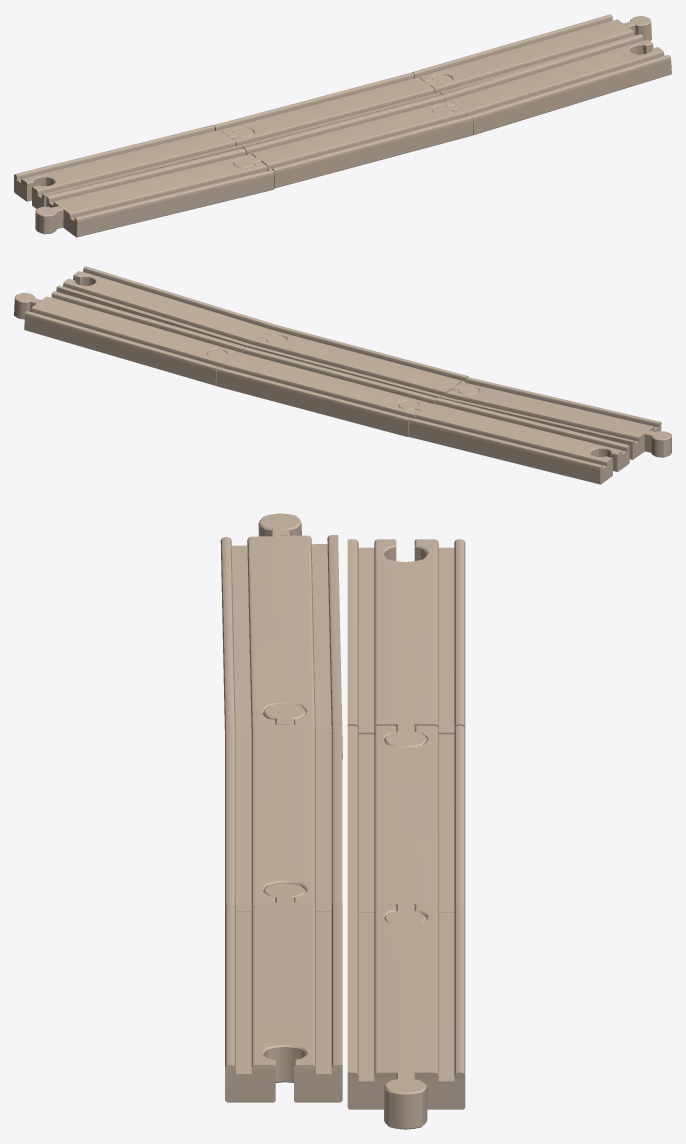
Rendered from train_tracks.fbx.
3 views of the same model, one above another, from view 1: azimuth 30°, elevation 25°; view 2: azimuth 150°, elevation 25°; view 3: azimuth 270°, elevation 25° (orthographic). The views are drawn at different scales.
Visible parts, largest first — view 1: pCube326, pCube324, pCube325, pCube323, pCube321, pCube322; view 2: pCube323, pCube321, pCube322, pCube324, pCube326, pCube325; view 3: pCube321, pCube324, pCube326, pCube323, pCube322, pCube325.
Boxes of the visible parts, bbox=[...] form: pCube326: bbox=[35, 148, 274, 237]; pCube324: bbox=[432, 34, 671, 134]; pCube325: bbox=[233, 95, 473, 188]; pCube323: bbox=[14, 125, 253, 208]; pCube321: bbox=[412, 14, 651, 94]; pCube322: bbox=[214, 72, 452, 148]; pCube323: bbox=[398, 397, 629, 484]; pCube321: bbox=[14, 291, 245, 385]; pCube322: bbox=[206, 347, 436, 436]; pCube324: bbox=[56, 266, 286, 347]; pCube326: bbox=[440, 377, 671, 459]; pCube325: bbox=[248, 325, 478, 397]; pCube321: bbox=[347, 904, 465, 1129]; pCube324: bbox=[225, 883, 342, 1102]; pCube326: bbox=[220, 513, 342, 759]; pCube323: bbox=[347, 539, 465, 747]; pCube322: bbox=[347, 725, 465, 924]; pCube325: bbox=[225, 703, 342, 911].
Size of the model in its own units: 28.78 by 1.59 by 4.88.
